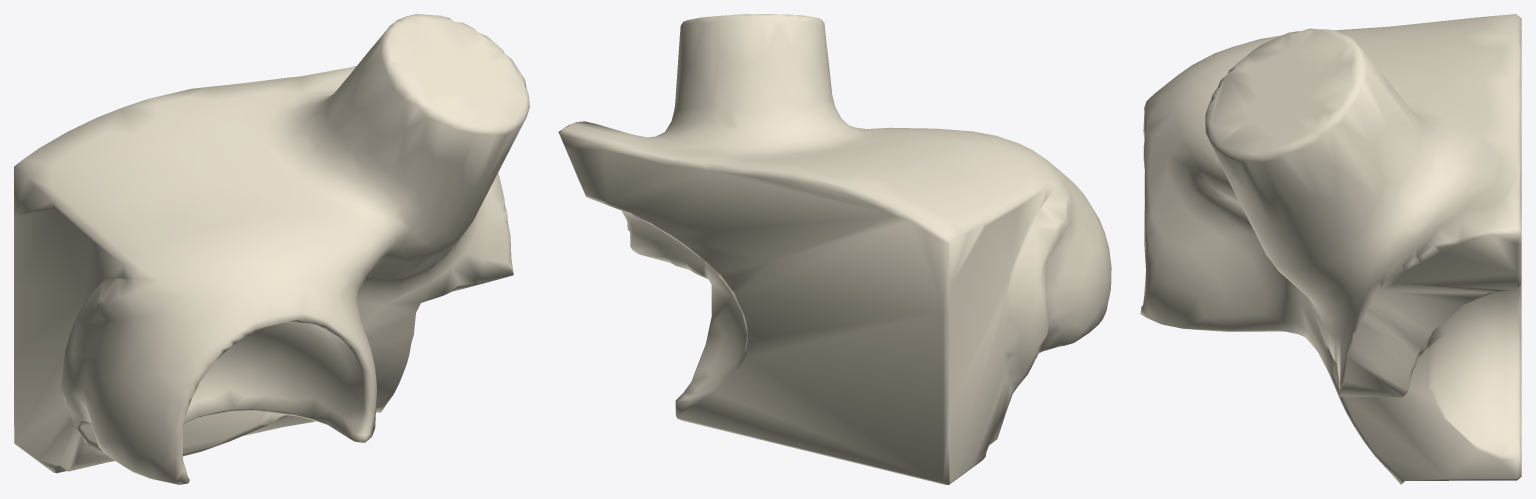
Rendered from frontal_l.glb.
3 renders of one model, left to right at view 1: azimuth 30°, elevation 25°; view 2: azimuth 150°, elevation 25°; view 3: azimuth 270°, elevation 25°, orthographic. The views are drawn at different scales.
Parts seen in each view (by area): view 1: geometry_0; view 2: geometry_0; view 3: geometry_0.
Part boxes in pixels (bbox=[...]): geometry_0: bbox=[14, 14, 529, 484]; geometry_0: bbox=[558, 14, 1111, 484]; geometry_0: bbox=[1140, 14, 1521, 484].
Size of the model in its own units: 0.3554 by 0.2872 by 0.2238.
